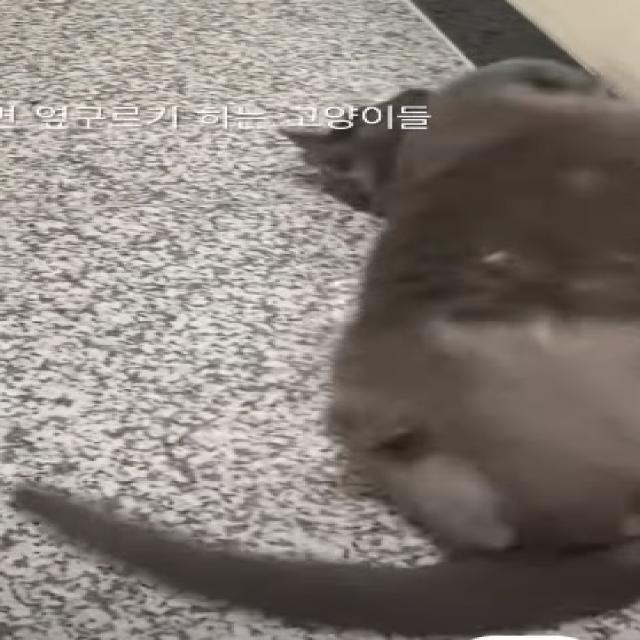cat: (9, 44, 640, 636)
